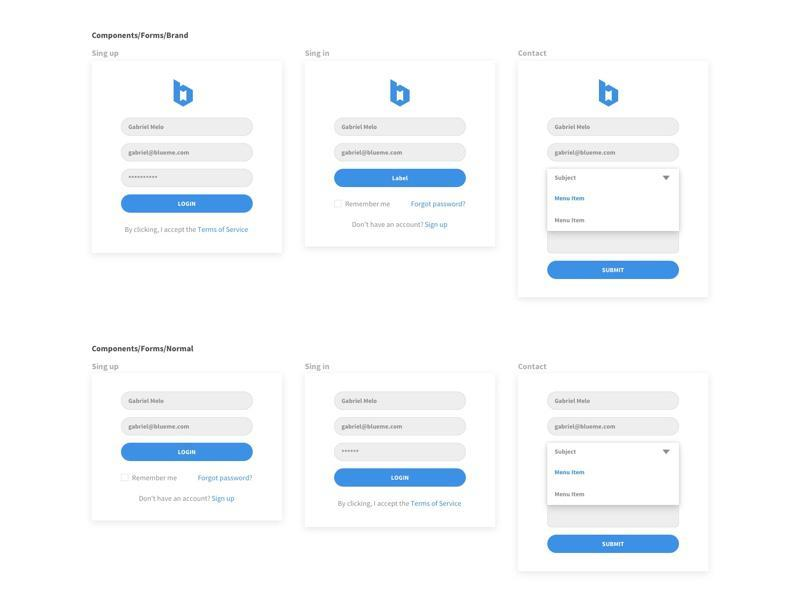button: (548, 209, 680, 232), (121, 193, 255, 214), (335, 168, 468, 189), (549, 463, 680, 484), (549, 187, 680, 208), (547, 535, 682, 555), (549, 485, 680, 505), (123, 443, 253, 463), (334, 469, 468, 488), (547, 261, 680, 280)
checkbox: (335, 201, 346, 211), (121, 474, 131, 483)
dropdown: (549, 442, 681, 462), (548, 170, 681, 187)
input: (335, 142, 469, 164), (333, 443, 468, 464), (124, 417, 253, 438), (333, 392, 467, 412), (335, 118, 467, 138), (549, 143, 680, 162), (124, 169, 254, 188), (121, 119, 253, 137), (334, 419, 470, 436), (547, 418, 682, 435), (122, 144, 255, 161), (122, 394, 255, 411), (548, 119, 681, 136), (547, 394, 681, 410)
label: (91, 343, 199, 358), (89, 30, 197, 40), (409, 200, 469, 210), (89, 48, 129, 61), (346, 200, 392, 211), (133, 474, 179, 484), (518, 50, 553, 61), (520, 362, 547, 373), (302, 363, 334, 372), (308, 50, 334, 61), (91, 365, 124, 373)
